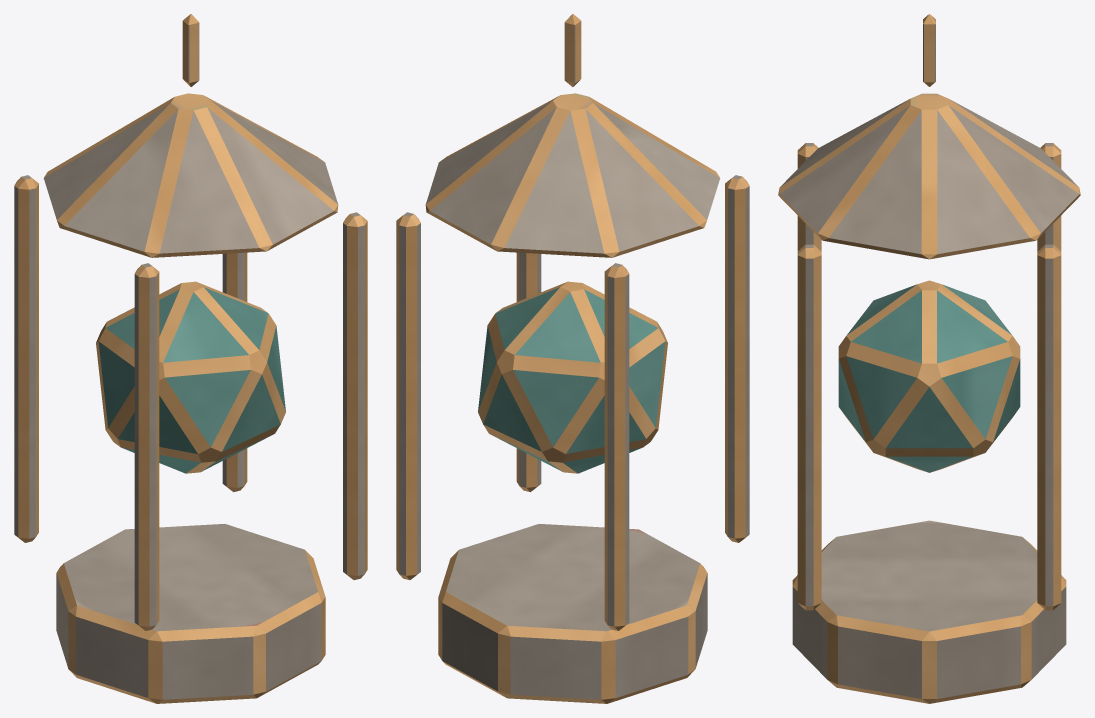
The model's file is sm_prop_spore_lantern.glb.
3 renders of one model, left to right at view 1: azimuth 30°, elevation 25°; view 2: azimuth 150°, elevation 25°; view 3: azimuth 270°, elevation 25°, orthographic.
Parts seen in each view (by area): view 1: sm_prop_spore_lantern; view 2: sm_prop_spore_lantern; view 3: sm_prop_spore_lantern.
Boxes of the visible parts, x1,y1,x2,y2 form: sm_prop_spore_lantern: [14, 14, 367, 703]; sm_prop_spore_lantern: [396, 14, 749, 703]; sm_prop_spore_lantern: [778, 14, 1080, 703].
Size of the model in its own units: 0.1513 by 0.35 by 0.1513.
1 material, 1 textured.
